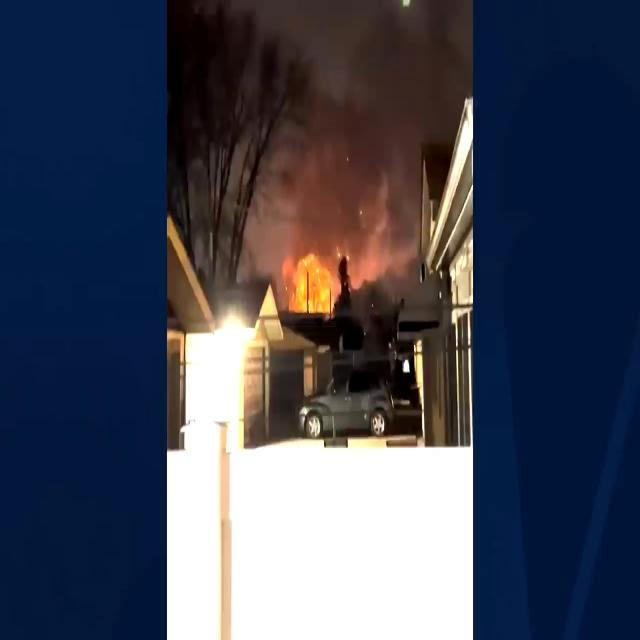fire: (278, 243, 338, 313)
